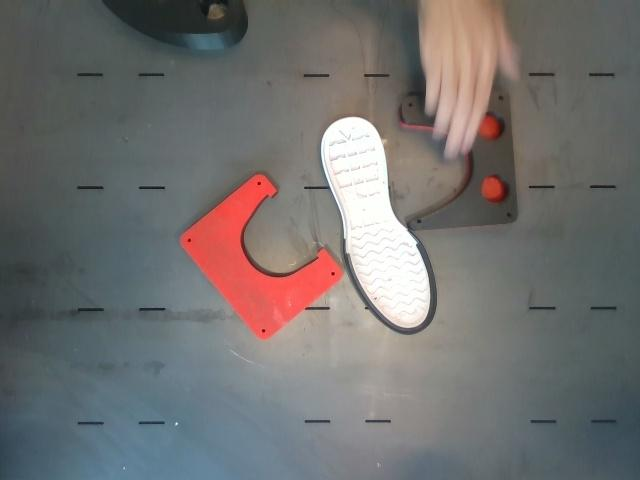shoes: (324, 119, 436, 333)
